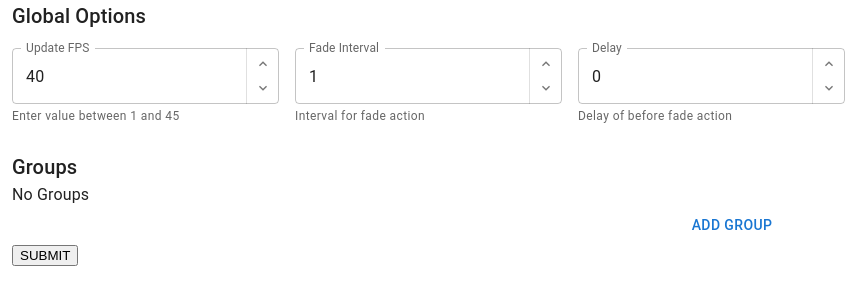
Test: Devices › Components › Update FPS › Can change value
Click the field labelled "Update FPS": {"x": 129, "y": 76} [12,48,246,104]
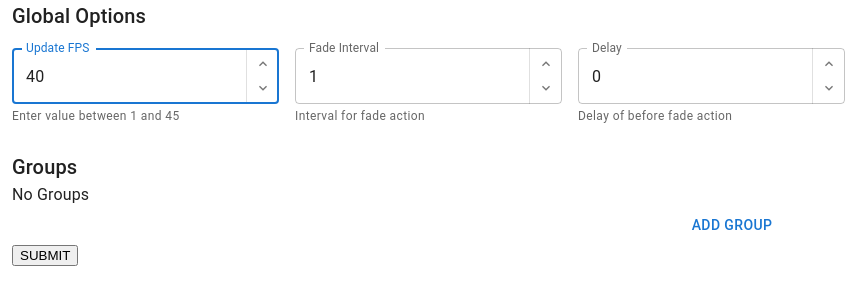
Press Arrowup
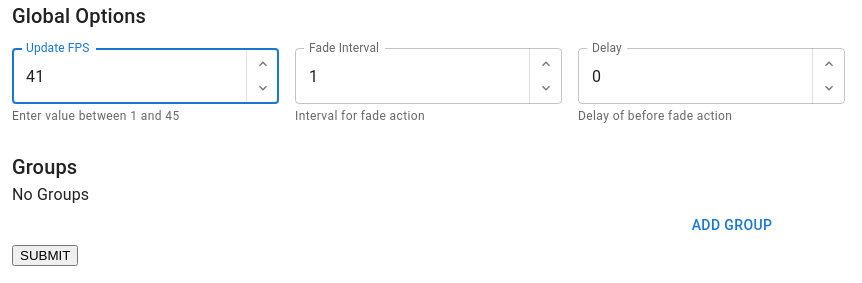
expect the field labelled "Update FPS" holds "41": met, box [12,48,246,104]
